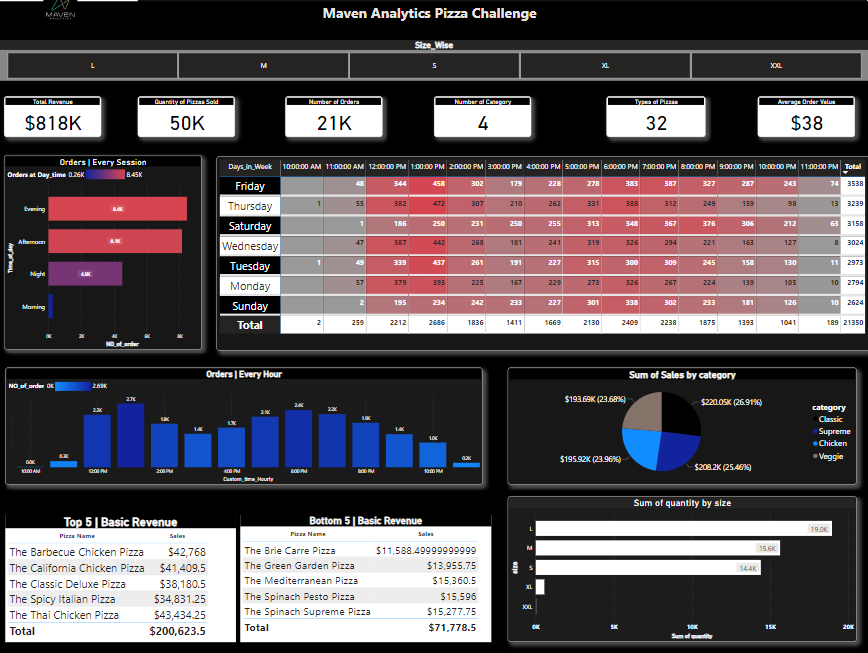

Layout of this report page (visuals, bound fields, positions):
{"tool":"powerbi","page":{"name":"Size_Wise","canvas":[2350,1800],"ordinal":3},"visuals":[{"type":"shape","box":[0,0,2350,1400],"z":0},{"type":"shape","box":[0,60.6,2351.5,1709.1],"z":1000},{"type":"textbox","box":[0,28.6,2350,61.9],"z":2000},{"type":"image","box":[23.8,0,333.3,100],"z":3000},{"type":"card","title":"Total Revenue","fields":{"Values":["Sum(order_details.Sales)"]},"box":[40.9,281.8,259.1,109.1],"z":4000},{"type":"card","title":"Quantity of Pizzas Sold","fields":{"Values":["Sum(order_details.quantity)"]},"box":[395.5,281.8,259.1,109.1],"z":5000},{"type":"card","title":"Number of Orders","fields":{"Values":["order_details.NO_of_order"]},"box":[790.9,281.8,259.1,109.1],"z":6000},{"type":"card","title":"Number of Category","fields":{"Values":["Count(pizza_types.category)"]},"box":[1186.4,281.8,259.1,109.1],"z":7000},{"type":"card","title":"Types of Pizzas","fields":{"Values":["Count(pizza_types.pizza_type_id)"]},"box":[1645.5,281.8,263.6,109.1],"z":8000},{"type":"card","title":"Average Order Value","fields":{"Values":["order_details.Avg_order_value"]},"box":[2050,281.8,259.1,109.1],"z":9000},{"type":"pieChart","fields":{"Y":["Sum(order_details.Sales)"],"Category":["pizza_types.category"]},"box":[1381.8,1006.1,930.3,312.1],"z":10000},{"type":"pivotTable","fields":{"Columns":["orders.Custom_time_Hourly"],"Values":["order_details.NO_of_order"],"Rows":["orders.Days_in_Week"]},"box":[606.1,442.4,1745.5,518.2],"z":11000},{"type":"columnChart","title":"Orders | Every Hour","fields":{"Y":["order_details.NO_of_order"],"Category":["orders.Custom_time_Hourly"]},"box":[42.4,1006.1,1272.7,312.1],"z":12000},{"type":"tableEx","title":"Top 5 | Basic Revenue","fields":{"Values":["pizza_types.name","Sum(order_details.Sales)"]},"box":[42.4,1400,615.2,339.4],"z":13000},{"type":"tableEx","title":"Bottom 5 | Basic Revenue","fields":{"Values":["pizza_types.name","Sum(order_details.Sales)"]},"box":[669.7,1400,669.7,339.4],"z":14000},{"type":"clusteredBarChart","title":"Orders | Every Session","fields":{"Category":["orders.Time_of_day"],"Y":["order_details.NO_of_order"]},"box":[40.9,440.9,527.3,518.2],"z":15000},{"type":"barChart","fields":{"Category":["pizzas.size"],"Y":["Sum(order_details.quantity)"]},"box":[1381.8,1351.5,930.3,387.9],"z":16000},{"type":"slicer","title":"Size_Wise","fields":{"Values":["pizzas.size"]},"box":[22.7,131.8,2327.3,109.1],"z":17000}]}

Visuals, with their boxes in screenshot pixels (x1, y1, x2, y2), scaled from the page's 2350x1800 canvas onto the 868x653 screenshot:
shape: 0 0 867 508
shape: 0 22 867 642
textbox: 0 10 867 33
image: 9 0 132 36
"Total Revenue" card: 15 102 111 142
"Quantity of Pizzas Sold" card: 146 102 242 142
"Number of Orders" card: 292 102 388 142
"Number of Category" card: 438 102 534 142
"Types of Pizzas" card: 608 102 705 142
"Average Order Value" card: 757 102 853 142
pieChart - Sum(order_details.Sales) x pizza_types.category: 510 365 854 478
pivotTable - orders.Custom_time_Hourly x order_details.NO_of_order: 224 160 867 348
"Orders | Every Hour" columnChart: 16 365 486 478
"Top 5 | Basic Revenue" tableEx: 16 508 243 631
"Bottom 5 | Basic Revenue" tableEx: 247 508 495 631
"Orders | Every Session" clusteredBarChart: 15 160 210 348
barChart - pizzas.size x Sum(order_details.quantity): 510 490 854 631
"Size_Wise" slicer: 8 48 867 87
